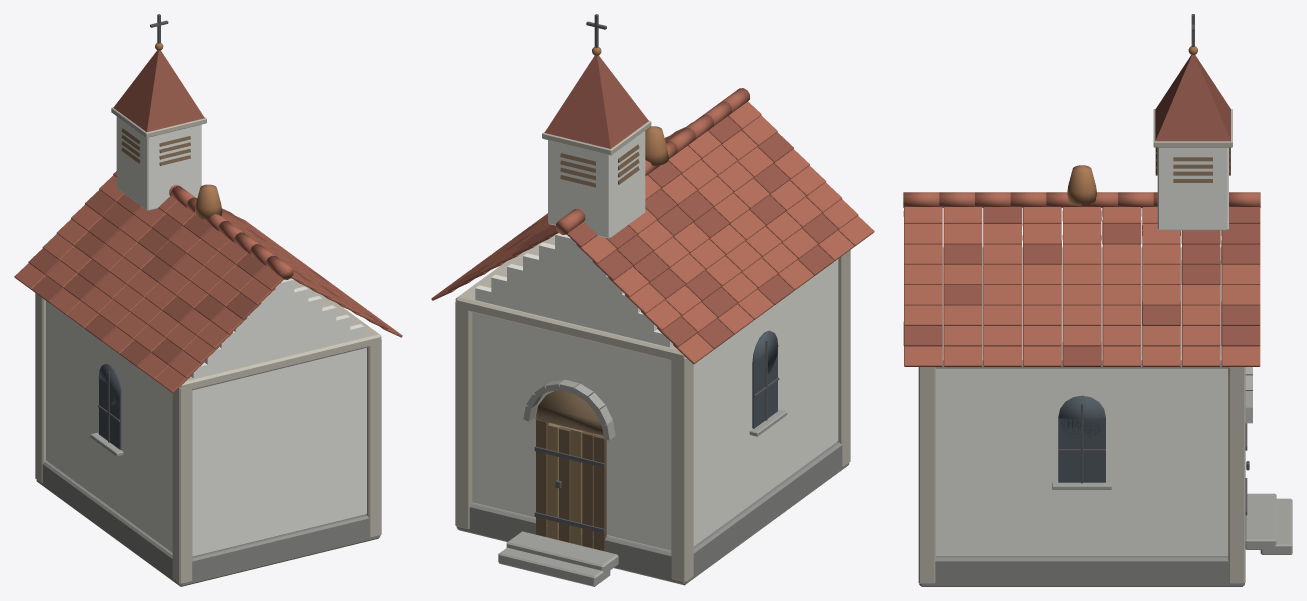
The model's file is v_chapel.glb.
3 views of the same model, side by side, from view 1: azimuth 30°, elevation 25°; view 2: azimuth 150°, elevation 25°; view 3: azimuth 270°, elevation 25° (orthographic). The views are drawn at different scales.
Visible parts, largest first — view 1: Chapel; view 2: Chapel; view 3: Chapel.
Boxes of the visible parts, x1,y1,x2,y2 form: Chapel: (14,14,402,586); Chapel: (431,14,874,586); Chapel: (903,14,1292,586).
Size of what is drawn, in the model's own units: 3.78 by 7.2 by 4.9.
